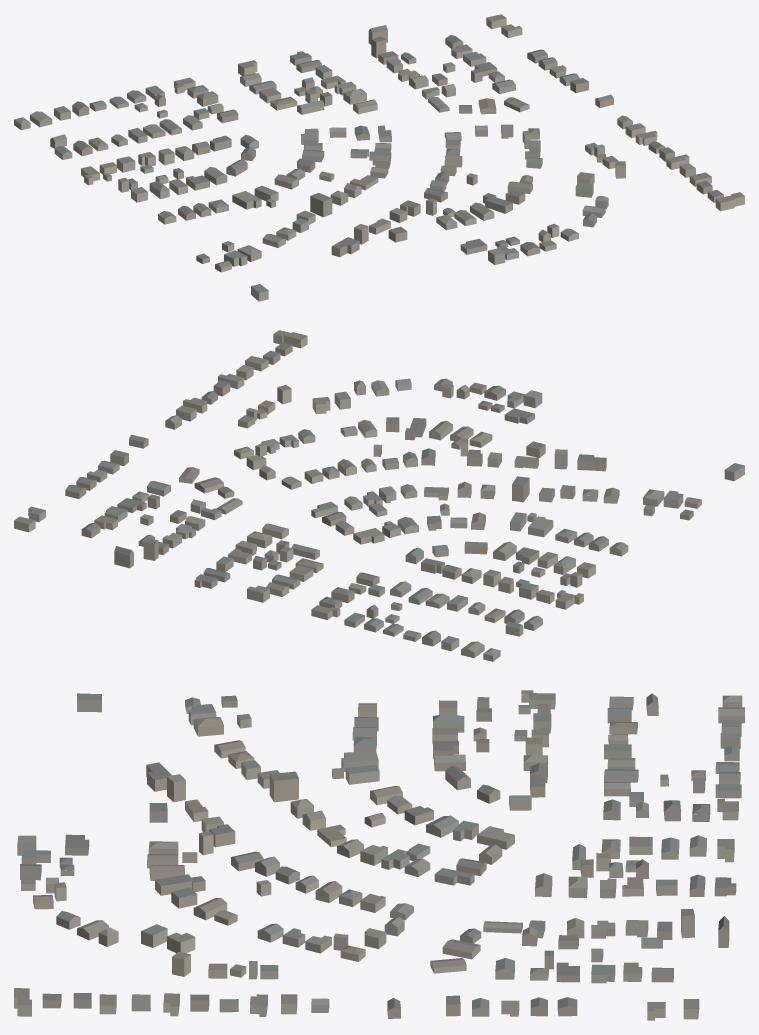
The model's file is b693c53b6c35-chunk-1200_11840.glb.
3 views of the same model, one above another, from view 1: azimuth 30°, elevation 25°; view 2: azimuth 150°, elevation 25°; view 3: azimuth 270°, elevation 25° (orthographic). The views are drawn at different scales.
Parts seen in each view (by area): view 1: no part large enough to name; view 2: no part large enough to name; view 3: building_24694, building_126026, building_78547, building_94311, building_138931, building_137913, building_18832, building_96865.
Part boxes in pixels (box(x1,y1,x2,y2)): building_24694: box(269, 771, 298, 802); building_126026: box(155, 874, 205, 895); building_78547: box(477, 826, 514, 849); building_94311: box(345, 764, 379, 784); building_138931: box(442, 939, 480, 959); building_137913: box(341, 751, 378, 771); building_18832: box(146, 762, 171, 791); building_96865: box(434, 868, 474, 885).
Size of the model in its own units: 396 by 12.74 by 381.
